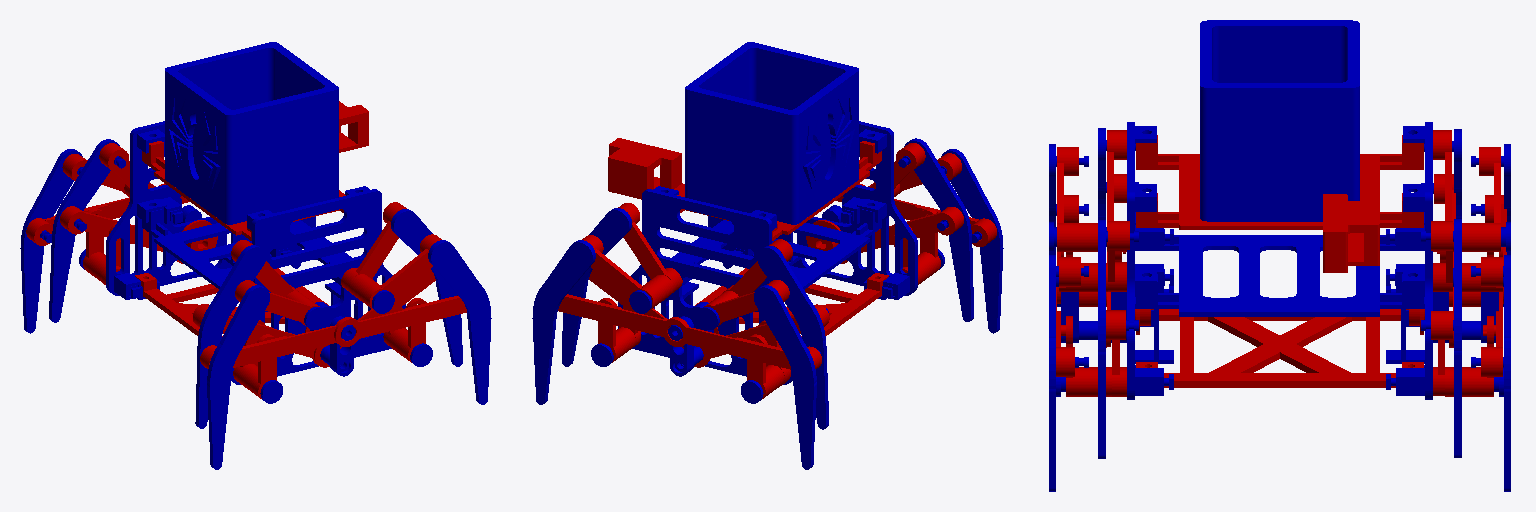
--- What the picture shows (computed from the rendered views, not written in the file) ---
The picture shows the robot from 3 angles, left to right: view 1: azimuth 30°, elevation 25°; view 2: azimuth 150°, elevation 25°; view 3: azimuth 270°, elevation 25°; orthographic projection.
Robot: unnamed — 52 links, 51 joints (34 continuous, 17 fixed); root link Base_link; default pose: all joints at 0.
Visible links, largest first — view 1: Caja_link, right_side_PCBWay_Community_link, left_side_PCBWay_Community_link, leg_PCBWay_Community.007_link, leg_PCBWay_Community.008_link, Medio_link, leg_PCBWay_Community.002_link, leg_PCBWay_Community.005_link, leg_PCBWay_Community.004_link, Arriba_link, inks_2_PCBWay_Community.010_link, leg_PCBWay_Community.006_link (+16 smaller); view 2: Caja_link, left_side_PCBWay_Community_link, right_side_PCBWay_Community_link, Arriba_link, leg_PCBWay_Community.005_link, leg_PCBWay_Community.003_link, Medio_link, leg_PCBWay_Community.004_link, leg_PCBWay_Community.002_link, leg_PCBWay_Community.007_link, inks_2_PCBWay_Community.007_link, leg_PCBWay_Community.001_link (+16 smaller); view 3: Caja_link, Medio_link, Arriba_link, Base_link, right_side_PCBWay_Community_link, left_side_PCBWay_Community_link, inks_2_PCBWay_Community.005_link, leg_PCBWay_Community.006_link, inks_2_PCBWay_Community.008_link, leg_PCBWay_Community.001_link, leg_PCBWay_Community.008_link, leg_PCBWay_Community.003_link (+24 smaller).
Boxes of the visible links, x1,y1,x2,y2 form: Caja_link: [165, 42, 338, 224]; right_side_PCBWay_Community_link: [231, 186, 405, 384]; left_side_PCBWay_Community_link: [106, 121, 290, 299]; leg_PCBWay_Community.007_link: [207, 285, 269, 469]; leg_PCBWay_Community.008_link: [428, 240, 491, 404]; Medio_link: [142, 209, 351, 311]; leg_PCBWay_Community.002_link: [49, 139, 125, 322]; leg_PCBWay_Community.005_link: [20, 149, 83, 333]; leg_PCBWay_Community.004_link: [195, 245, 265, 428]; Arriba_link: [142, 101, 368, 240]; inks_2_PCBWay_Community.010_link: [334, 295, 466, 346]; leg_PCBWay_Community.006_link: [391, 209, 462, 366]; Caja_link: [685, 42, 858, 224]; left_side_PCBWay_Community_link: [618, 186, 792, 384]; right_side_PCBWay_Community_link: [733, 121, 917, 299]; Arriba_link: [608, 138, 881, 240]; leg_PCBWay_Community.005_link: [754, 285, 820, 469]; leg_PCBWay_Community.003_link: [532, 240, 595, 404]; Medio_link: [672, 209, 881, 311]; leg_PCBWay_Community.004_link: [898, 138, 973, 321]; leg_PCBWay_Community.002_link: [757, 246, 828, 429]; leg_PCBWay_Community.007_link: [941, 149, 1003, 333]; inks_2_PCBWay_Community.007_link: [662, 318, 821, 369]; leg_PCBWay_Community.001_link: [562, 208, 631, 366]; Caja_link: [1200, 20, 1359, 221]; Medio_link: [1136, 235, 1423, 316]; Arriba_link: [1136, 135, 1423, 272]; Base_link: [1136, 309, 1423, 387]; right_side_PCBWay_Community_link: [1127, 122, 1173, 399]; left_side_PCBWay_Community_link: [1386, 122, 1432, 399]; inks_2_PCBWay_Community.005_link: [1057, 147, 1097, 251]; leg_PCBWay_Community.006_link: [1098, 220, 1138, 458]; inks_2_PCBWay_Community.008_link: [1453, 147, 1500, 251]; leg_PCBWay_Community.001_link: [1421, 219, 1461, 457]; leg_PCBWay_Community.008_link: [1049, 255, 1088, 491]; leg_PCBWay_Community.003_link: [1471, 255, 1510, 491].
Bounding box of the posed robot: 0.1617 × 0.1885 × 0.1595 m (x, y, z).
52 mesh visuals loaded from 52 distinct referenced files (52 Collada DAE).

URDF robot description (unnamed):
<robot name="unnamed" version="1.0">
  <joint name="Arriba_link_joint" type="fixed">
    <origin rpy="-3.14159 -0.00000 0.00000" xyz="0.00000 -0.00000 0.00100"/>
    <parent link="Caja_link"/>
    <child link="Arriba_link"/>
  </joint>
  <joint name="Caja_link_joint" type="fixed">
    <origin rpy="3.14159 -0.00000 0.00000" xyz="-0.00250 -0.00000 0.03850"/>
    <parent link="Medio_link"/>
    <child link="Caja_link"/>
  </joint>
  <joint name="Medio_link_joint" type="fixed">
    <origin rpy="0.00000 0.00000 0.00000" xyz="0.00000 0.00000 0.03350"/>
    <parent link="Base_link"/>
    <child link="Medio_link"/>
  </joint>
  <joint name="axe-drive_PCBWay Community.001_link_joint" type="fixed">
    <origin rpy="0.00000 -0.00000 1.57080" xyz="0.00000 0.00400 0.01140"/>
    <parent link="axe-mtr_left.001_link"/>
    <child link="axe-drive_PCBWay_Community.001_link"/>
  </joint>
  <joint name="axe-drive_PCBWay Community.002_link_joint" type="fixed">
    <origin rpy="0.00000 -0.00000 -0.00000" xyz="-0.00390 0.00000 0.01740"/>
    <parent link="axe-drive_PCBWay_Community.001_link"/>
    <child link="axe-drive_PCBWay_Community.002_link"/>
  </joint>
  <joint name="axe-drive_PCBWay Community.004_link_joint" type="fixed">
    <origin rpy="-0.00000 0.00000 -0.00000" xyz="-0.00390 -0.00000 0.01740"/>
    <parent link="axe-drive_PCBWay_Community.003_link"/>
    <child link="axe-drive_PCBWay_Community.004_link"/>
  </joint>
  <joint name="axe-drive_PCBWay_Community.003_link_joint" type="fixed">
    <origin rpy="3.14159 -0.00000 1.57080" xyz="-0.00000 0.00400 -0.01140"/>
    <parent link="axe-mtr_left_link"/>
    <child link="axe-drive_PCBWay_Community.003_link"/>
  </joint>
  <joint name="axe-main_PCBWay Community.001_link_joint" type="fixed">
    <origin rpy="-0.00000 0.00000 0.00000" xyz="-0.04399 -0.01757 -0.01136"/>
    <parent link="left_side_PCBWay_Community_link"/>
    <child link="axe-main_PCBWay_Community.001_link"/>
  </joint>
  <joint name="axe-main_PCBWay Community.003_link_joint" type="fixed">
    <origin rpy="0.00000 0.00000 0.00000" xyz="0.04201 -0.01757 -0.01136"/>
    <parent link="left_side_PCBWay_Community_link"/>
    <child link="axe-main_PCBWay_Community.003_link"/>
  </joint>
  <joint name="axe-main_PCBWay Community.004_link_joint" type="fixed">
    <origin rpy="-0.00000 0.00000 0.00000" xyz="0.01841 0.01833 -0.01246"/>
    <parent link="left_side_PCBWay_Community_link"/>
    <child link="axe-main_PCBWay_Community.004_link"/>
  </joint>
  <joint name="axe-main_PCBWay Community.005_link_joint" type="fixed">
    <origin rpy="-0.00000 -0.00000 -3.14159" xyz="-0.02072 -0.01850 -0.01237"/>
    <parent link="right_side_PCBWay_Community_link"/>
    <child link="axe-main_PCBWay_Community.005_link"/>
  </joint>
  <joint name="axe-main_PCBWay Community.006_link_joint" type="fixed">
    <origin rpy="-0.00000 -0.00000 -3.14159" xyz="0.01808 -0.01850 -0.01237"/>
    <parent link="right_side_PCBWay_Community_link"/>
    <child link="axe-main_PCBWay_Community.006_link"/>
  </joint>
  <joint name="axe-main_PCBWay Community.007_link_joint" type="fixed">
    <origin rpy="-0.00000 -0.00000 -3.14159" xyz="0.04168 0.01740 -0.01127"/>
    <parent link="right_side_PCBWay_Community_link"/>
    <child link="axe-main_PCBWay_Community.007_link"/>
  </joint>
  <joint name="axe-main_PCBWay Community_link_joint" type="fixed">
    <origin rpy="-0.00000 0.00000 0.00000" xyz="-0.02039 0.01833 -0.01246"/>
    <parent link="left_side_PCBWay_Community_link"/>
    <child link="axe-main_PCBWay_Community_link"/>
  </joint>
  <joint name="axe-main_PCBWay_Community.002_link_joint" type="fixed">
    <origin rpy="-0.00000 -0.00000 -3.14159" xyz="-0.04432 0.01740 -0.01127"/>
    <parent link="right_side_PCBWay_Community_link"/>
    <child link="axe-main_PCBWay_Community.002_link"/>
  </joint>
  <joint name="axe-mtr_left.001_link_joint" type="continuous">
    <limit lower="0" upper="0" effort="0.00000" velocity="0.00000"/>
    <origin rpy="3.14159 0.00000 3.14159" xyz="-0.00132 0.00440 0.00053"/>
    <parent link="right_side_PCBWay_Community_link"/>
    <child link="axe-mtr_left.001_link"/>
    <axis xyz="0.00000 0.00000 1.00000"/>
  </joint>
  <joint name="axe-mtr_left_link_joint" type="continuous">
    <limit lower="0" upper="0" effort="0.00000" velocity="1000.00000"/>
    <origin rpy="0.00000 -0.00000 3.14159" xyz="-0.00099 -0.00457 0.00044"/>
    <parent link="left_side_PCBWay_Community_link"/>
    <child link="axe-mtr_left_link"/>
    <axis xyz="0.00000 0.00000 1.00000"/>
  </joint>
  <joint name="inks_1_PCBWay Community.001_link_joint" type="continuous">
    <limit lower="0" upper="0" effort="0.00000" velocity="0.00000"/>
    <origin rpy="-0.00000 0.00000 -0.68167" xyz="-0.00003 0.00019 0.00561"/>
    <parent link="axe-main_PCBWay_Community.005_link"/>
    <child link="inks_1_PCBWay_Community.001_link"/>
    <axis xyz="0.00000 0.00000 1.00000"/>
  </joint>
  <joint name="inks_1_PCBWay Community.003_link_joint" type="continuous">
    <limit lower="0" upper="0" effort="0.00000" velocity="1000.00000"/>
    <origin rpy="3.14159 -0.00000 -2.45992" xyz="-0.00003 0.00019 0.00561"/>
    <parent link="axe-main_PCBWay_Community.004_link"/>
    <child link="inks_1_PCBWay_Community.003_link"/>
    <axis xyz="0.00000 0.00000 1.00000"/>
  </joint>
  <joint name="inks_1_PCBWay Community.004_link_joint" type="continuous">
    <limit lower="0" upper="0" effort="0.00000" velocity="0.00000"/>
    <origin rpy="0.00000 0.00000 0.68168" xyz="0.00003 0.00019 0.00561"/>
    <parent link="axe-main_PCBWay_Community_link"/>
    <child link="inks_1_PCBWay_Community.004_link"/>
    <axis xyz="0.00000 0.00000 1.00000"/>
  </joint>
  <joint name="inks_1_PCBWay Community.005_link_joint" type="continuous">
    <limit lower="0" upper="0" effort="0.00000" velocity="0.00000"/>
    <origin rpy="-0.00000 -0.00000 -2.95933" xyz="0.00021 -0.00008 0.00567"/>
    <parent link="axe-main_PCBWay_Community.003_link"/>
    <child link="inks_1_PCBWay_Community.005_link"/>
    <axis xyz="0.00000 0.00000 1.00000"/>
  </joint>
  <joint name="inks_1_PCBWay Community.006_link_joint" type="continuous">
    <limit lower="0" upper="0" effort="0.00000" velocity="0.00000"/>
    <origin rpy="3.14159 0.00000 2.95933" xyz="-0.00019 0.00009 0.01292"/>
    <parent link="inks_2_PCBWay_Community.006_link"/>
    <child link="inks_1_PCBWay_Community.006_link"/>
    <axis xyz="0.00000 0.00000 1.00000"/>
  </joint>
  <joint name="inks_1_PCBWay Community.008_link_joint" type="continuous">
    <limit lower="0" upper="0" effort="0.00000" velocity="0.00000"/>
    <origin rpy="-0.00000 -0.00000 2.95933" xyz="-0.00021 -0.00000 0.00467"/>
    <parent link="axe-main_PCBWay_Community.001_link"/>
    <child link="inks_1_PCBWay_Community.008_link"/>
    <axis xyz="0.00000 0.00000 1.00000"/>
  </joint>
  <joint name="inks_1_PCBWay Community.009_link_joint" type="continuous">
    <limit lower="0" upper="0" effort="0.00000" velocity="0.00000"/>
    <origin rpy="-0.00000 -0.00000 2.95933" xyz="-0.00021 -0.00000 0.00467"/>
    <parent link="axe-main_PCBWay_Community.007_link"/>
    <child link="inks_1_PCBWay_Community.009_link"/>
    <axis xyz="0.00000 0.00000 1.00000"/>
  </joint>
  <joint name="inks_1_PCBWay Community.010_link_joint" type="continuous">
    <limit lower="0" upper="0" effort="0.00000" velocity="0.00000"/>
    <origin rpy="0.00000 -0.00000 2.22205" xyz="-0.00000 0.00000 0.00000"/>
    <parent link="inks_1_PCBWay_Community.002_link"/>
    <child link="inks_1_PCBWay_Community.010_link"/>
    <axis xyz="0.00000 0.00000 1.00000"/>
  </joint>
  <joint name="inks_1_PCBWay Community.011_link_joint" type="continuous">
    <limit lower="0" upper="0" effort="0.00000" velocity="0.00000"/>
    <origin rpy="0.00000 0.00000 2.68182" xyz="0.00549 -0.00000 0.00140"/>
    <parent link="axe-drive_PCBWay_Community.001_link"/>
    <child link="inks_1_PCBWay_Community.011_link"/>
    <axis xyz="0.00000 0.00000 1.00000"/>
  </joint>
  <joint name="inks_1_PCBWay Community.012_link_joint" type="continuous">
    <limit lower="0" upper="0" effort="0.00000" velocity="0.00000"/>
    <origin rpy="-3.14159 -0.00000 -0.45977" xyz="0.00549 -0.00000 0.00140"/>
    <parent link="axe-drive_PCBWay_Community.001_link"/>
    <child link="inks_1_PCBWay_Community.012_link"/>
    <axis xyz="0.00000 0.00000 1.00000"/>
  </joint>
  <joint name="inks_1_PCBWay_Community.002_link_joint" type="continuous">
    <limit lower="0" upper="0" effort="0.00000" velocity="1000.00000"/>
    <origin rpy="-3.14159 -0.00000 -0.45977" xyz="0.00549 -0.00000 0.00140"/>
    <parent link="axe-drive_PCBWay_Community.003_link"/>
    <child link="inks_1_PCBWay_Community.002_link"/>
    <axis xyz="0.00000 0.00000 1.00000"/>
  </joint>
  <joint name="inks_1_PCBWay_Community.007_link_joint" type="continuous">
    <limit lower="0" upper="0" effort="0.00000" velocity="0.00000"/>
    <origin rpy="0.00000 0.00000 0.68167" xyz="0.00003 0.00019 0.00561"/>
    <parent link="axe-main_PCBWay_Community.006_link"/>
    <child link="inks_1_PCBWay_Community.007_link"/>
    <axis xyz="0.00000 0.00000 1.00000"/>
  </joint>
  <joint name="inks_2_PCBWay Community.002_link_joint" type="continuous">
    <limit lower="0" upper="0" effort="0.00000" velocity="0.00000"/>
    <origin rpy="0.00000 -0.00000 -1.07338" xyz="-0.00003 -0.00011 -0.01965"/>
    <parent link="axe-main_PCBWay_Community.004_link"/>
    <child link="inks_2_PCBWay_Community.002_link"/>
    <axis xyz="0.00000 0.00000 1.00000"/>
  </joint>
  <joint name="inks_2_PCBWay Community.003_link_joint" type="continuous">
    <limit lower="0" upper="0" effort="0.00000" velocity="0.00000"/>
    <origin rpy="3.14159 0.00000 -0.00000" xyz="-0.01011 0.00000 0.00300"/>
    <parent link="axe-drive_PCBWay_Community.002_link"/>
    <child link="inks_2_PCBWay_Community.003_link"/>
    <axis xyz="0.00000 0.00000 1.00000"/>
  </joint>
  <joint name="inks_2_PCBWay Community.004_link_joint" type="continuous">
    <limit lower="0" upper="0" effort="0.00000" velocity="0.00000"/>
    <origin rpy="3.14159 -0.00000 0.00000" xyz="0.00002 0.00001 -0.00725"/>
    <parent link="axe-main_PCBWay_Community.003_link"/>
    <child link="inks_2_PCBWay_Community.004_link"/>
    <axis xyz="0.00000 0.00000 1.00000"/>
  </joint>
  <joint name="inks_2_PCBWay Community.005_link_joint" type="continuous">
    <limit lower="0" upper="0" effort="0.00000" velocity="0.00000"/>
    <origin rpy="-3.14159 -0.00000 -2.06821" xyz="-0.00003 -0.00011 -0.01965"/>
    <parent link="axe-main_PCBWay_Community.005_link"/>
    <child link="inks_2_PCBWay_Community.005_link"/>
    <axis xyz="0.00000 0.00000 1.00000"/>
  </joint>
  <joint name="inks_2_PCBWay Community.006_link_joint" type="continuous">
    <limit lower="0" upper="0" effort="0.00000" velocity="0.00000"/>
    <origin rpy="-0.00000 0.00000 3.14159" xyz="0.00002 0.00001 -0.00725"/>
    <parent link="axe-main_PCBWay_Community.002_link"/>
    <child link="inks_2_PCBWay_Community.006_link"/>
    <axis xyz="0.00000 0.00000 1.00000"/>
  </joint>
  <joint name="inks_2_PCBWay Community.007_link_joint" type="continuous">
    <limit lower="0" upper="0" effort="0.00000" velocity="0.00000"/>
    <origin rpy="-0.00000 0.00000 -3.14159" xyz="-0.01011 0.00000 0.00455"/>
    <parent link="axe-drive_PCBWay_Community.004_link"/>
    <child link="inks_2_PCBWay_Community.007_link"/>
    <axis xyz="0.00000 0.00000 1.00000"/>
  </joint>
  <joint name="inks_2_PCBWay Community.008_link_joint" type="continuous">
    <limit lower="0" upper="0" effort="0.00000" velocity="0.00000"/>
    <origin rpy="-3.14159 0.00000 2.06821" xyz="0.00003 -0.00011 -0.01890"/>
    <parent link="axe-main_PCBWay_Community_link"/>
    <child link="inks_2_PCBWay_Community.008_link"/>
    <axis xyz="0.00000 0.00000 1.00000"/>
  </joint>
  <joint name="inks_2_PCBWay Community.009_link_joint" type="continuous">
    <limit lower="0" upper="0" effort="0.00000" velocity="0.00000"/>
    <origin rpy="3.14159 -0.00000 0.00000" xyz="-0.00002 0.00001 -0.00725"/>
    <parent link="axe-main_PCBWay_Community.001_link"/>
    <child link="inks_2_PCBWay_Community.009_link"/>
    <axis xyz="0.00000 0.00000 1.00000"/>
  </joint>
  <joint name="inks_2_PCBWay Community.010_link_joint" type="continuous">
    <limit lower="0" upper="0" effort="0.00000" velocity="0.00000"/>
    <origin rpy="0.00000 0.00000 3.14159" xyz="-0.01011 0.00000 0.00455"/>
    <parent link="axe-drive_PCBWay_Community.002_link"/>
    <child link="inks_2_PCBWay_Community.010_link"/>
    <axis xyz="0.00000 0.00000 1.00000"/>
  </joint>
  <joint name="inks_2_PCBWay Community.012_link_joint" type="continuous">
    <limit lower="0" upper="0" effort="0.00000" velocity="0.00000"/>
    <origin rpy="-0.00000 0.00000 3.14159" xyz="-0.00002 0.00001 -0.00725"/>
    <parent link="axe-main_PCBWay_Community.007_link"/>
    <child link="inks_2_PCBWay_Community.012_link"/>
    <axis xyz="0.00000 0.00000 1.00000"/>
  </joint>
  <joint name="inks_2_PCBWay_Community.001_link_joint" type="continuous">
    <limit lower="0" upper="0" effort="0.00000" velocity="0.00000"/>
    <origin rpy="-3.14159 0.00000 -0.00000" xyz="-0.01011 0.00000 0.00300"/>
    <parent link="axe-drive_PCBWay_Community.004_link"/>
    <child link="inks_2_PCBWay_Community.001_link"/>
    <axis xyz="0.00000 0.00000 1.00000"/>
  </joint>
  <joint name="inks_2_PCBWay_Community.011_link_joint" type="continuous">
    <limit lower="0" upper="0" effort="0.00000" velocity="0.00000"/>
    <origin rpy="-3.14159 -0.00000 2.06821" xyz="0.00003 -0.00011 -0.01890"/>
    <parent link="axe-main_PCBWay_Community.006_link"/>
    <child link="inks_2_PCBWay_Community.011_link"/>
    <axis xyz="0.00000 0.00000 1.00000"/>
  </joint>
  <joint name="left_side_PCBWay_Community_link_joint" type="fixed">
    <origin rpy="1.57080 0.00000 0.00000" xyz="0.00099 0.05864 0.02357"/>
    <parent link="Base_link"/>
    <child link="left_side_PCBWay_Community_link"/>
  </joint>
  <joint name="leg_PCBWay Community.001_link_joint" type="continuous">
    <limit lower="0" upper="0" effort="0.00000" velocity="1000.00000"/>
    <origin rpy="-0.00000 0.00000 1.51844" xyz="0.00021 0.07365 0.01349"/>
    <parent link="inks_1_PCBWay_Community.002_link"/>
    <child link="leg_PCBWay_Community.001_link"/>
    <axis xyz="0.00000 0.00000 1.00000"/>
  </joint>
  <joint name="leg_PCBWay Community.002_link_joint" type="continuous">
    <limit lower="0" upper="0" effort="0.00000" velocity="0.00000"/>
    <origin rpy="-0.00000 -0.00000 -1.52909" xyz="-0.00021 0.07365 0.01349"/>
    <parent link="inks_1_PCBWay_Community.010_link"/>
    <child link="leg_PCBWay_Community.002_link"/>
    <axis xyz="0.00000 0.00000 1.00000"/>
  </joint>
  <joint name="leg_PCBWay Community.004_link_joint" type="continuous">
    <limit lower="0" upper="0" effort="0.00000" velocity="0.00000"/>
    <origin rpy="-0.00000 0.00000 1.51844" xyz="0.00021 0.07365 0.01349"/>
    <parent link="inks_1_PCBWay_Community.012_link"/>
    <child link="leg_PCBWay_Community.004_link"/>
    <axis xyz="0.00000 0.00000 1.00000"/>
  </joint>
  <joint name="leg_PCBWay Community.005_link_joint" type="continuous">
    <limit lower="0" upper="0" effort="0.00000" velocity="0.00000"/>
    <origin rpy="-3.14159 0.00000 1.23744" xyz="-0.00000 -0.07325 -0.01380"/>
    <parent link="inks_2_PCBWay_Community.007_link"/>
    <child link="leg_PCBWay_Community.005_link"/>
    <axis xyz="0.00000 0.00000 1.00000"/>
  </joint>
  <joint name="leg_PCBWay Community.006_link_joint" type="continuous">
    <limit lower="0" upper="0" effort="0.00000" velocity="0.00000"/>
    <origin rpy="-3.14159 0.00000 2.44863" xyz="0.05845 -0.04482 -0.01349"/>
    <parent link="inks_1_PCBWay_Community.011_link"/>
    <child link="leg_PCBWay_Community.006_link"/>
    <axis xyz="0.00000 0.00000 1.00000"/>
  </joint>
  <joint name="leg_PCBWay Community.007_link_joint" type="continuous">
    <limit lower="0" upper="0" effort="0.00000" velocity="0.00000"/>
    <origin rpy="0.00000 0.00000 1.90415" xyz="0.00000 0.07325 0.01225"/>
    <parent link="inks_2_PCBWay_Community.003_link"/>
    <child link="leg_PCBWay_Community.007_link"/>
    <axis xyz="0.00000 0.00000 1.00000"/>
  </joint>
  <joint name="leg_PCBWay Community.008_link_joint" type="continuous">
    <limit lower="0" upper="0" effort="0.00000" velocity="0.00000"/>
    <origin rpy="-3.14159 -0.00000 1.23744" xyz="-0.00000 -0.07325 -0.01380"/>
    <parent link="inks_2_PCBWay_Community.010_link"/>
    <child link="leg_PCBWay_Community.008_link"/>
    <axis xyz="0.00000 0.00000 1.00000"/>
  </joint>
  <joint name="leg_PCBWay_Community.003_link_joint" type="continuous">
    <limit lower="0" upper="0" effort="0.00000" velocity="0.00000"/>
    <origin rpy="0.00000 0.00000 1.90415" xyz="0.00000 0.07325 0.01225"/>
    <parent link="inks_2_PCBWay_Community.001_link"/>
    <child link="leg_PCBWay_Community.003_link"/>
    <axis xyz="0.00000 0.00000 1.00000"/>
  </joint>
  <joint name="right_side_PCBWay Community_link_joint" type="fixed">
    <origin rpy="-1.57080 0.00000 0.00000" xyz="0.00132 -0.05873 0.02340"/>
    <parent link="Base_link"/>
    <child link="right_side_PCBWay_Community_link"/>
  </joint>
  <link name="Arriba_link">
    <visual name="Arriba">
      <origin rpy="-0.00000 0.00000 0.00000" xyz="0.00000 0.00000 0.00000"/>
      <material name="Material.002"/>
      <geometry>
        <mesh filename="../meshes/dae/Arriba.dae" scale="1.00000 1.00000 1.00000"/>
      </geometry>
    </visual>
  </link>
  <link name="Base_link">
    <collision name="Base_collision">
      <origin rpy="0.00000 0.00000 0.00000" xyz="0.00000 0.00000 0.00000"/>
      <geometry>
        <mesh filename="../meshes/dae/Base.dae" scale="1.00000 1.00000 1.00000"/>
      </geometry>
    </collision>
    <inertial>
      <inertia ixx="0.00011" ixy="-0.00000" ixz="0.00000" iyy="0.00005" iyz="0.00000" izz="0.00016"/>
      <origin rpy="0.00000 0.00000 0.00000" xyz="0.00001 -0.00000 0.00189"/>
      <mass value="0.10000"/>
    </inertial>
    <visual name="Base">
      <origin rpy="0.00000 0.00000 0.00000" xyz="0.00000 0.00000 0.00000"/>
      <material name="Material.002"/>
      <geometry>
        <mesh filename="../meshes/dae/Base.dae" scale="1.00000 1.00000 1.00000"/>
      </geometry>
    </visual>
  </link>
  <link name="Caja_link">
    <visual name="Caja">
      <origin rpy="0.00000 -0.00000 0.00000" xyz="-0.00000 -0.00000 0.00000"/>
      <material name="Material.004"/>
      <geometry>
        <mesh filename="../meshes/dae/Caja.dae" scale="1.00000 1.00000 1.00000"/>
      </geometry>
    </visual>
  </link>
  <link name="Medio_link">
    <collision name="Medio_collision">
      <origin rpy="0.00000 0.00000 0.00000" xyz="0.00000 0.00000 0.00000"/>
      <geometry>
        <mesh filename="../meshes/dae/Medio.dae" scale="1.00000 1.00000 1.00000"/>
      </geometry>
    </collision>
    <inertial>
      <inertia ixx="0.02700" ixy="-0.00007" ixz="-0.00000" iyy="0.00935" iyz="-0.00023" izz="0.03584"/>
      <origin rpy="0.00000 0.00000 0.00000" xyz="0.00213 -0.00002 0.00231"/>
      <mass value="20.00000"/>
    </inertial>
    <visual name="Medio">
      <origin rpy="0.00000 0.00000 0.00000" xyz="0.00000 0.00000 0.00000"/>
      <material name="Material.004"/>
      <geometry>
        <mesh filename="../meshes/dae/Medio.dae" scale="1.00000 1.00000 1.00000"/>
      </geometry>
    </visual>
  </link>
  <link name="axe-drive_PCBWay_Community.001_link">
    <collision name="axe-drive_PCBWay Community.001_collision">
      <origin rpy="0.00000 -0.00000 -0.00000" xyz="0.00000 -0.00000 -0.00000"/>
      <geometry>
        <mesh filename="../meshes/dae/axe-drive_PCBWay Community.001.dae" scale="1.00000 1.00000 1.00000"/>
      </geometry>
    </collision>
    <inertial>
      <inertia ixx="0.00001" ixy="0.00000" ixz="0.00000" iyy="0.00001" iyz="-0.00000" izz="0.00000"/>
      <origin rpy="0.00000 0.00000 0.00000" xyz="-0.00170 0.00000 -0.00150"/>
      <mass value="0.10000"/>
    </inertial>
    <visual name="axe-drive_PCBWay Community.001">
      <origin rpy="0.00000 0.00000 0.00000" xyz="0.00000 -0.00000 -0.00000"/>
      <material name="Material.004"/>
      <geometry>
        <mesh filename="../meshes/dae/axe-drive_PCBWay Community.001.dae" scale="1.00000 1.00000 1.00000"/>
      </geometry>
    </visual>
  </link>
  <link name="axe-drive_PCBWay_Community.002_link">
    <collision name="axe-drive_PCBWay Community.002_collision">
      <origin rpy="-0.00000 -0.00000 -0.00000" xyz="0.00000 -0.00000 -0.00000"/>
      <geometry>
        <mesh filename="../meshes/dae/axe-drive_PCBWay Community.002.dae" scale="1.00000 1.00000 1.00000"/>
      </geometry>
    </collision>
    <inertial>
      <inertia ixx="0.00001" ixy="-0.00000" ixz="0.00000" iyy="0.00001" iyz="0.00000" izz="0.00000"/>
      <origin rpy="0.00000 0.00000 0.00000" xyz="-0.00169 0.00000 -0.00105"/>
      <mass value="0.10000"/>
    </inertial>
    <visual name="axe-drive_PCBWay Community.002">
      <origin rpy="0.00000 0.00000 0.00000" xyz="0.00000 -0.00000 -0.00000"/>
      <material name="Material.004"/>
      <geometry>
        <mesh filename="../meshes/dae/axe-drive_PCBWay Community.002.dae" scale="1.00000 1.00000 1.00000"/>
      </geometry>
    </visual>
  </link>
  <link name="axe-drive_PCBWay_Community.003_link">
    <collision name="axe-drive_PCBWay Community.003_collision.000">
      <origin rpy="0.00000 -0.00000 0.00000" xyz="0.00000 -0.00000 0.00000"/>
      <geometry>
        <mesh filename="../meshes/dae/axe-drive_PCBWay Community.003.dae" scale="1.00000 1.00000 1.00000"/>
      </geometry>
    </collision>
    <inertial>
      <inertia ixx="0.00001" ixy="-0.00000" ixz="0.00000" iyy="0.00001" iyz="0.00000" izz="0.00000"/>
      <origin rpy="0.00000 0.00000 0.00000" xyz="-0.00170 0.00000 -0.00150"/>
      <mass value="0.10000"/>
    </inertial>
    <visual name="axe-drive_PCBWay Community.003">
      <origin rpy="-0.00000 0.00000 -0.00000" xyz="0.00000 0.00000 -0.00000"/>
      <material name="Material.004"/>
      <geometry>
        <mesh filename="../meshes/dae/axe-drive_PCBWay Community.003.dae" scale="1.00000 1.00000 1.00000"/>
      </geometry>
    </visual>
  </link>
  <link name="axe-drive_PCBWay_Community.004_link">
    <collision name="axe-drive_PCBWay Community.004_collision">
      <origin rpy="0.00000 -0.00000 0.00000" xyz="0.00000 -0.00000 -0.00000"/>
      <geometry>
        <mesh filename="../meshes/dae/axe-drive_PCBWay Community.004.dae" scale="1.00000 1.00000 1.00000"/>
      </geometry>
    </collision>
    <inertial>
      <inertia ixx="0.00001" ixy="0.00000" ixz="0.00000" iyy="0.00001" iyz="-0.00000" izz="0.00000"/>
      <origin rpy="0.00000 0.00000 0.00000" xyz="-0.00169 0.00000 -0.00105"/>
      <mass value="0.10000"/>
    </inertial>
    <visual name="axe-drive_PCBWay Community.004">
      <origin rpy="-0.00000 -0.00000 0.00000" xyz="-0.00000 0.00000 -0.00000"/>
      <material name="Material.004"/>
      <geometry>
        <mesh filename="../meshes/dae/axe-drive_PCBWay Community.004.dae" scale="1.00000 1.00000 1.00000"/>
      </geometry>
    </visual>
  </link>
  <link name="axe-main_PCBWay_Community.001_link">
    <collision name="axe-main_PCBWay Community.001_collision">
      <origin rpy="-0.00000 0.00000 0.00000" xyz="0.00000 -0.00000 0.00000"/>
      <geometry>
        <mesh filename="../meshes/dae/axe-main_PCBWay Community.001.dae" scale="1.00000 1.00000 1.00000"/>
      </geometry>
    </collision>
    <inertial>
      <inertia ixx="0.00002" ixy="-0.00000" ixz="-0.00000" iyy="0.00000" iyz="-0.00000" izz="0.00002"/>
      <origin rpy="0.00000 0.00000 0.00000" xyz="0.00000 -0.00000 -0.00262"/>
      <mass value="0.10000"/>
    </inertial>
    <visual name="axe-main_PCBWay Community.001">
      <origin rpy="-0.00000 0.00000 0.00000" xyz="-0.00000 0.00000 0.00000"/>
      <material name="Material.004"/>
      <geometry>
        <mesh filename="../meshes/dae/axe-main_PCBWay Community.001.dae" scale="1.00000 1.00000 1.00000"/>
      </geometry>
    </visual>
  </link>
  <link name="axe-main_PCBWay_Community.002_link">
    <collision name="axe-main_PCBWay Community.002_collision">
      <origin rpy="-0.00000 0.00000 -0.00000" xyz="0.00000 0.00000 -0.00000"/>
      <geometry>
        <mesh filename="../meshes/dae/axe-main_PCBWay Community.002.dae" scale="0.00100 0.00100 0.00100"/>
      </geometry>
    </collision>
    <inertial>
      <inertia ixx="0.00002" ixy="-0.00000" ixz="-0.00000" iyy="0.00000" iyz="0.00000" izz="0.00002"/>
      <origin rpy="0.00000 0.00000 0.00000" xyz="-0.00000 0.00000 -0.00262"/>
      <mass value="0.10000"/>
    </inertial>
    <visual name="axe-main_PCBWay Community.002">
      <origin rpy="0.00000 -0.00000 -0.00000" xyz="-0.00000 -0.00000 0.00000"/>
      <material name="Material.004"/>
      <geometry>
        <mesh filename="../meshes/dae/axe-main_PCBWay Community.002.dae" scale="0.00100 0.00100 0.00100"/>
      </geometry>
    </visual>
  </link>
  <link name="axe-main_PCBWay_Community.003_link">
    <collision name="axe-main_PCBWay Community.003_collision">
      <origin rpy="-0.00000 0.00000 0.00000" xyz="0.00000 -0.00000 0.00000"/>
      <geometry>
        <mesh filename="../meshes/dae/axe-main_PCBWay Community.003.dae" scale="0.00100 0.00100 0.00100"/>
      </geometry>
    </collision>
    <inertial>
      <inertia ixx="0.00002" ixy="-0.00000" ixz="-0.00000" iyy="0.00000" iyz="-0.00000" izz="0.00002"/>
      <origin rpy="0.00000 0.00000 0.00000" xyz="0.00000 0.00000 -0.00262"/>
      <mass value="0.10000"/>
    </inertial>
    <visual name="axe-main_PCBWay Community.003">
      <origin rpy="-0.00000 0.00000 0.00000" xyz="0.00000 0.00000 -0.00000"/>
      <material name="Material.004"/>
      <geometry>
        <mesh filename="../meshes/dae/axe-main_PCBWay Community.003.dae" scale="0.00100 0.00100 0.00100"/>
      </geometry>
    </visual>
  </link>
  <link name="axe-main_PCBWay_Community.004_link">
    <collision name="axe-main_PCBWay Community.004_collision">
      <origin rpy="-0.00000 0.00000 0.00000" xyz="0.00000 0.00000 -0.00000"/>
      <geometry>
        <mesh filename="../meshes/dae/axe-main_PCBWay Community.004.dae" scale="0.00100 0.00100 0.00100"/>
      </geometry>
    </collision>
    <inertial>
      <inertia ixx="0.00002" ixy="0.00000" ixz="0.00000" iyy="0.00000" iyz="-0.00000" izz="0.00002"/>
      <origin rpy="0.00000 0.00000 0.00000" xyz="0.00000 0.00000 -0.00277"/>
      <mass value="0.10000"/>
    </inertial>
    <visual name="axe-main_PCBWay Community.004">
      <origin rpy="-0.00000 0.00000 0.00000" xyz="0.00000 0.00000 0.00000"/>
      <material name="Material.004"/>
      <geometry>
        <mesh filename="../meshes/dae/axe-main_PCBWay Community.004.dae" scale="0.00100 0.00100 0.00100"/>
      </geometry>
    </visual>
  </link>
  <link name="axe-main_PCBWay_Community.005_link">
    <collision name="axe-main_PCBWay Community.005_collision">
      <origin rpy="0.00000 0.00000 -0.00000" xyz="-0.00000 0.00000 0.00000"/>
      <geometry>
        <mesh filename="../meshes/dae/axe-main_PCBWay Community.005.dae" scale="0.00100 0.00100 0.00100"/>
      </geometry>
    </collision>
    <inertial>
      <inertia ixx="0.00002" ixy="-0.00000" ixz="0.00000" iyy="0.00000" iyz="0.00000" izz="0.00002"/>
      <origin rpy="0.00000 0.00000 0.00000" xyz="-0.00000 -0.00000 -0.00277"/>
      <mass value="0.10000"/>
    </inertial>
    <visual name="axe-main_PCBWay Community.005">
      <origin rpy="-0.00000 0.00000 0.00000" xyz="-0.00000 0.00000 0.00000"/>
      <material name="Material.004"/>
      <geometry>
        <mesh filename="../meshes/dae/axe-main_PCBWay Community.005.dae" scale="0.00100 0.00100 0.00100"/>
      </geometry>
    </visual>
  </link>
  <link name="axe-main_PCBWay_Community.006_link">
    <collision name="axe-main_PCBWay Community.006_collision">
      <origin rpy="-0.00000 0.00000 -0.00000" xyz="-0.00000 0.00000 0.00000"/>
      <geometry>
        <mesh filename="../meshes/dae/axe-main_PCBWay Community.006.dae" scale="1.00000 1.00000 1.00000"/>
      </geometry>
    </collision>
    <inertial>
      <inertia ixx="0.00002" ixy="-0.00000" ixz="0.00000" iyy="0.00000" iyz="0.00000" izz="0.00002"/>
      <origin rpy="0.00000 0.00000 0.00000" xyz="0.00000 0.00000 -0.00277"/>
      <mass value="0.10000"/>
    </inertial>
    <visual name="axe-main_PCBWay Community.006">
      <origin rpy="-0.00000 0.00000 0.00000" xyz="-0.00000 -0.00000 -0.00000"/>
      <material name="Material.004"/>
      <geometry>
        <mesh filename="../meshes/dae/axe-main_PCBWay Community.006.dae" scale="1.00000 1.00000 1.00000"/>
      </geometry>
    </visual>
  </link>
  <link name="axe-main_PCBWay_Community.007_link">
    <collision name="axe-main_PCBWay Community.007_collision">
      <origin rpy="-0.00000 0.00000 -0.00000" xyz="0.00000 0.00000 0.00000"/>
      <geometry>
        <mesh filename="../meshes/dae/axe-main_PCBWay Community.007.dae" scale="1.00000 1.00000 1.00000"/>
      </geometry>
    </collision>
    <inertial>
      <inertia ixx="0.00002" ixy="-0.00000" ixz="0.00000" iyy="0.00000" iyz="0.00000" izz="0.00002"/>
      <origin rpy="0.00000 0.00000 0.00000" xyz="0.00000 -0.00000 -0.00262"/>
      <mass value="0.10000"/>
    </inertial>
    <visual name="axe-main_PCBWay Community.007">
      <origin rpy="-0.00000 0.00000 -0.00000" xyz="0.00000 -0.00000 0.00000"/>
      <material name="Material.004"/>
      <geometry>
        <mesh filename="../meshes/dae/axe-main_PCBWay Community.007.dae" scale="1.00000 1.00000 1.00000"/>
      </geometry>
    </visual>
  </link>
  <link name="axe-main_PCBWay_Community_link">
    <collision name="axe-main_PCBWay Community_collision">
      <origin rpy="0.00000 0.00000 0.00000" xyz="0.00000 0.00000 0.00000"/>
      <geometry>
        <mesh filename="../meshes/dae/axe-main_PCBWay Community.dae" scale="1.00000 1.00000 1.00000"/>
      </geometry>
    </collision>
    <inertial>
      <inertia ixx="0.00002" ixy="0.00000" ixz="0.00000" iyy="0.00000" iyz="-0.00000" izz="0.00002"/>
      <origin rpy="0.00000 0.00000 0.00000" xyz="-0.00000 0.00000 -0.00277"/>
      <mass value="0.10000"/>
    </inertial>
    <visual name="axe-main_PCBWay Community">
      <origin rpy="0.00000 0.00000 0.00000" xyz="-0.00000 0.00000 0.00000"/>
      <material name="Material.004"/>
      <geometry>
        <mesh filename="../meshes/dae/axe-main_PCBWay Community.dae" scale="1.00000 1.00000 1.00000"/>
      </geometry>
    </visual>
  </link>
  <link name="axe-mtr_left.001_link">
    <collision name="axe-mtr_left.001_collision">
      <origin rpy="-0.00000 0.00000 0.00000" xyz="-0.00000 0.00000 -0.00000"/>
      <geometry>
        <mesh filename="../meshes/dae/axe-mtr_PCBWay Community.001.dae" scale="1.00000 1.00000 1.00000"/>
      </geometry>
    </collision>
    <inertial>
      <inertia ixx="0.00000" ixy="-0.00000" ixz="-0.00000" iyy="0.00000" iyz="0.00000" izz="0.00000"/>
      <origin rpy="0.00000 0.00000 0.00000" xyz="0.00000 0.00000 -0.00055"/>
      <mass value="0.10000"/>
    </inertial>
    <visual name="axe-mtr_left.001">
      <origin rpy="0.00000 0.00000 0.00000" xyz="-0.00000 0.00000 -0.00000"/>
      <material name="Material.002"/>
      <geometry>
        <mesh filename="../meshes/dae/axe-mtr_PCBWay Community.001.dae" scale="1.00000 1.00000 1.00000"/>
      </geometry>
    </visual>
  </link>
  <link name="axe-mtr_left_link">
    <collision name="axe-mtr_left_collision">
      <origin rpy="3.14159 -0.00000 -3.14159" xyz="0.00000 0.00000 0.00000"/>
      <geometry>
        <mesh filename="../meshes/dae/axe-mtr_PCBWay Community.002.dae" scale="1.00000 1.00000 1.00000"/>
      </geometry>
    </collision>
    <inertial>
      <inertia ixx="0.00000" ixy="0.00000" ixz="-0.00000" iyy="0.00000" iyz="-0.00000" izz="0.00000"/>
      <origin rpy="0.00000 0.00000 0.00000" xyz="0.00000 -0.00000 0.00055"/>
      <mass value="0.10000"/>
    </inertial>
    <visual name="axe-mtr_left">
      <origin rpy="3.14159 -0.00000 -3.14159" xyz="-0.00000 -0.00000 -0.00000"/>
      <material name="Material.002"/>
      <geometry>
        <mesh filename="../meshes/dae/axe-mtr_PCBWay Community.002.dae" scale="1.00000 1.00000 1.00000"/>
      </geometry>
    </visual>
  </link>
  <link name="inks_1_PCBWay_Community.001_link">
    <collision name="inks_1_PCBWay Community.001_collision.000.001">
      <origin rpy="0.00000 -0.00000 0.00000" xyz="-0.00000 0.00000 0.00000"/>
      <geometry>
        <mesh filename="../meshes/dae/inks_1_PCBWay Community.001.dae" scale="1.00000 1.00000 1.00000"/>
      </geometry>
    </collision>
    <inertial>
      <inertia ixx="0.00001" ixy="0.00000" ixz="0.00001" iyy="0.00002" iyz="-0.00000" izz="0.00001"/>
      <origin rpy="0.00000 0.00000 0.00000" xyz="0.00022 0.02217 -0.00160"/>
      <mass value="0.10000"/>
    </inertial>
    <visual name="inks_1_PCBWay Community.001">
      <origin rpy="0.00000 -0.00000 -0.00000" xyz="-0.00000 0.00000 0.00000"/>
      <material name="Material.002"/>
      <geometry>
        <mesh filename="../meshes/dae/inks_1_PCBWay Community.001.dae" scale="1.00000 1.00000 1.00000"/>
      </geometry>
    </visual>
  </link>
  <link name="inks_1_PCBWay_Community.002_link">
    <collision name="inks_1_PCBWay Community.002_collision">
      <origin rpy="-0.00000 -0.00000 0.00000" xyz="-0.00000 0.00000 0.00000"/>
      <geometry>
        <mesh filename="../meshes/dae/inks_1_PCBWay Community.002.dae" scale="1.00000 1.00000 1.00000"/>
      </geometry>
    </collision>
    <inertial>
      <inertia ixx="0.00001" ixy="0.00000" ixz="-0.00003" iyy="0.00007" iyz="0.00000" izz="0.00005"/>
      <origin rpy="0.00000 0.00000 0.00000" xyz="0.00015 0.05009 0.00301"/>
      <mass value="0.10000"/>
    </inertial>
    <visual name="inks_1_PCBWay Community.002">
      <origin rpy="-0.00000 0.00000 -0.00000" xyz="0.00000 -0.00000 0.00000"/>
      <material name="Material.002"/>
      <geometry>
        <mesh filename="../meshes/dae/inks_1_PCBWay Community.002.dae" scale="1.00000 1.00000 1.00000"/>
      </geometry>
    </visual>
  </link>
  <link name="inks_1_PCBWay_Community.003_link">
    <collision name="inks_1_PCBWay Community.003_collision">
      <origin rpy="3.14159 -0.00000 -1.77824" xyz="0.00000 -0.00000 -0.00000"/>
      <geometry>
        <mesh filename="../meshes/dae/inks_1_PCBWay Community.003.dae" scale="1.00000 1.00000 1.00000"/>
      </geometry>
    </collision>
    <inertial>
      <inertia ixx="0.00001" ixy="0.00000" ixz="-0.00001" iyy="0.00002" iyz="0.00000" izz="0.00001"/>
      <origin rpy="0.00000 0.00000 0.00000" xyz="-0.02174 0.00435 0.00160"/>
      <mass value="0.10000"/>
    </inertial>
    <visual name="inks_1_PCBWay Community.003">
      <origin rpy="3.14159 -0.00000 -1.77824" xyz="0.00000 -0.00000 -0.00000"/>
      <material name="Material.002"/>
      <geometry>
        <mesh filename="../meshes/dae/inks_1_PCBWay Community.003.dae" scale="1.00000 1.00000 1.00000"/>
      </geometry>
    </visual>
  </link>
  <link name="inks_1_PCBWay_Community.004_link">
    <collision name="inks_1_PCBWay Community.004_collision">
      <origin rpy="-0.00000 -0.00000 -0.00000" xyz="0.00000 0.00000 0.00000"/>
      <geometry>
        <mesh filename="../meshes/dae/inks_1_PCBWay Community.004.dae" scale="1.00000 1.00000 1.00000"/>
      </geometry>
    </collision>
    <inertial>
      <inertia ixx="0.00001" ixy="-0.00000" ixz="0.00001" iyy="0.00002" iyz="0.00000" izz="0.00001"/>
      <origin rpy="0.00000 0.00000 0.00000" xyz="-0.00000 0.02212 -0.00107"/>
      <mass value="0.10000"/>
    </inertial>
    <visual name="inks_1_PCBWay Community.004">
      <origin rpy="-0.00000 -0.00000 0.00000" xyz="0.00000 0.00000 0.00000"/>
      <material name="Material.002"/>
      <geometry>
        <mesh filename="../meshes/dae/inks_1_PCBWay Community.004.dae" scale="1.00000 1.00000 1.00000"/>
      </geometry>
    </visual>
  </link>
  <link name="inks_1_PCBWay_Community.005_link">
    <collision name="inks_1_PCBWay Community.005_collision">
      <origin rpy="0.00000 -0.00000 0.00000" xyz="0.00000 -0.00000 0.00000"/>
      <geometry>
        <mesh filename="../meshes/dae/inks_1_PCBWay Community.005.dae" scale="1.00000 1.00000 1.00000"/>
      </geometry>
    </collision>
    <inertial>
      <inertia ixx="0.00001" ixy="0.00000" ixz="0.00000" iyy="0.00001" iyz="-0.00000" izz="0.00000"/>
      <origin rpy="0.00000 0.00000 0.00000" xyz="0.00019 -0.01066 -0.00087"/>
      <mass value="0.10000"/>
    </inertial>
    <visual name="inks_1_PCBWay Community.005">
      <origin rpy="-0.00000 -0.00000 0.00000" xyz="-0.00000 0.00000 0.00000"/>
      <material name="Material.002"/>
      <geometry>
        <mesh filename="../meshes/dae/inks_1_PCBWay Community.005.dae" scale="1.00000 1.00000 1.00000"/>
      </geometry>
    </visual>
  </link>
  <link name="inks_1_PCBWay_Community.006_link">
    <collision name="inks_1_PCBWay Community.006_collision">
      <origin rpy="3.14159 -0.00000 2.77707" xyz="-0.00000 0.00000 0.00000"/>
      <geometry>
        <mesh filename="../meshes/dae/inks_1_PCBWay Community.006.dae" scale="1.00000 1.00000 1.00000"/>
      </geometry>
    </collision>
    <inertial>
      <inertia ixx="0.00001" ixy="0.00000" ixz="-0.00000" iyy="0.00001" iyz="0.00000" izz="0.00000"/>
      <origin rpy="0.00000 0.00000 0.00000" xyz="-0.00398 -0.00989 0.00087"/>
      <mass value="0.10000"/>
    </inertial>
    <visual name="inks_1_PCBWay Community.006">
      <origin rpy="3.14159 -0.00000 2.77707" xyz="0.00000 -0.00000 -0.00000"/>
      <material name="Material.002"/>
      <geometry>
        <mesh filename="../meshes/dae/inks_1_PCBWay Community.006.dae" scale="1.00000 1.00000 1.00000"/>
      </geometry>
    </visual>
  </link>
  <link name="inks_1_PCBWay_Community.007_link">
    <inertial>
      <inertia ixx="0.00001" ixy="-0.00000" ixz="-0.00001" iyy="0.00002" iyz="-0.00000" izz="0.00001"/>
      <origin rpy="0.00000 0.00000 0.00000" xyz="-0.00000 0.02212 -0.00107"/>
      <mass value="0.10000"/>
    </inertial>
    <visual name="inks_1_PCBWay Community.007">
      <origin rpy="0.00000 -0.00000 -0.00000" xyz="-0.00000 -0.00000 0.00000"/>
      <material name="Material.002"/>
      <geometry>
        <mesh filename="../meshes/dae/inks_1_PCBWay Community.007.dae" scale="1.00000 1.00000 1.00000"/>
      </geometry>
    </visual>
  </link>
  <link name="inks_1_PCBWay_Community.008_link">
    <collision name="inks_1_PCBWay Community.008_collision">
      <origin rpy="0.00000 -0.00000 0.00000" xyz="0.00000 -0.00000 -0.00000"/>
      <geometry>
        <mesh filename="../meshes/dae/inks_1_PCBWay Community.008.dae" scale="1.00000 1.00000 1.00000"/>
      </geometry>
    </collision>
    <inertial>
      <inertia ixx="0.00001" ixy="-0.00000" ixz="-0.00000" iyy="0.00001" iyz="-0.00000" izz="0.00000"/>
      <origin rpy="0.00000 0.00000 0.00000" xyz="-0.00000 -0.01050 -0.00095"/>
      <mass value="0.10000"/>
    </inertial>
    <visual name="inks_1_PCBWay Community.008">
      <origin rpy="-0.00000 0.00000 0.00000" xyz="-0.00000 -0.00000 0.00000"/>
      <material name="Material.002"/>
      <geometry>
        <mesh filename="../meshes/dae/inks_1_PCBWay Community.008.dae" scale="1.00000 1.00000 1.00000"/>
      </geometry>
    </visual>
  </link>
  <link name="inks_1_PCBWay_Community.009_link">
    <inertial>
      <inertia ixx="0.00001" ixy="-0.00000" ixz="0.00000" iyy="0.00001" iyz="0.00000" izz="0.00000"/>
      <origin rpy="0.00000 0.00000 0.00000" xyz="-0.00000 -0.01050 -0.00095"/>
      <mass value="0.10000"/>
    </inertial>
    <visual name="inks_1_PCBWay Community.009">
      <origin rpy="0.00000 -0.00000 0.00000" xyz="-0.00000 0.00000 -0.00000"/>
      <material name="Material.002"/>
      <geometry>
        <mesh filename="../meshes/dae/inks_1_PCBWay Community.009.dae" scale="1.00000 1.00000 1.00000"/>
      </geometry>
    </visual>
  </link>
  <link name="inks_1_PCBWay_Community.010_link">
    <collision name="inks_1_PCBWay Community.010_collision">
      <origin rpy="-0.00000 0.00000 -0.00000" xyz="0.00000 0.00000 -0.00000"/>
      <geometry>
        <mesh filename="../meshes/dae/inks_1_PCBWay Community.010.dae" scale="1.00000 1.00000 1.00000"/>
      </geometry>
    </collision>
    <inertial>
      <inertia ixx="0.00007" ixy="0.00000" ixz="0.00000" iyy="0.00000" iyz="-0.00000" izz="0.00007"/>
      <origin rpy="0.00000 0.00000 0.00000" xyz="-0.00000 0.04978 0.00177"/>
      <mass value="0.10000"/>
    </inertial>
    <visual name="inks_1_PCBWay Community.010">
      <origin rpy="-0.00000 -0.00000 0.00000" xyz="-0.00000 0.00000 0.00000"/>
      <material name="Material.002"/>
      <geometry>
        <mesh filename="../meshes/dae/inks_1_PCBWay Community.010.dae" scale="1.00000 1.00000 1.00000"/>
      </geometry>
    </visual>
  </link>
  <link name="inks_1_PCBWay_Community.011_link">
    <collision name="inks_1_PCBWay Community.011_collision">
      <origin rpy="3.14159 0.00000 0.91954" xyz="-0.00000 -0.00000 -0.00000"/>
      <geometry>
        <mesh filename="../meshes/dae/inks_1_PCBWay Community.011.dae" scale="1.00000 1.00000 1.00000"/>
      </geometry>
    </collision>
    <inertial>
      <inertia ixx="0.00007" ixy="-0.00000" ixz="-0.00000" iyy="0.00000" iyz="-0.00000" izz="0.00007"/>
      <origin rpy="0.00000 0.00000 0.00000" xyz="0.03959 -0.03017 -0.00177"/>
      <mass value="0.10000"/>
    </inertial>
    <visual name="inks_1_PCBWay Community.011">
      <origin rpy="3.14159 0.00000 0.91954" xyz="-0.00000 0.00000 -0.00000"/>
      <material name="Material.002"/>
      <geometry>
        <mesh filename="../meshes/dae/inks_1_PCBWay Community.011.dae" scale="1.00000 1.00000 1.00000"/>
      </geometry>
    </visual>
  </link>
  <link name="inks_1_PCBWay_Community.012_link">
    <collision name="inks_1_PCBWay Community.012_collision">
      <origin rpy="-0.00000 -0.00000 0.00000" xyz="0.00000 0.00000 0.00000"/>
      <geometry>
        <mesh filename="../meshes/dae/inks_1_PCBWay Community.012.dae" scale="1.00000 1.00000 1.00000"/>
      </geometry>
    </collision>
    <inertial>
      <inertia ixx="0.00001" ixy="0.00000" ixz="-0.00003" iyy="0.00007" iyz="0.00000" izz="0.00005"/>
      <origin rpy="0.00000 0.00000 0.00000" xyz="0.00015 0.05009 0.00301"/>
      <mass value="0.10000"/>
    </inertial>
    <visual name="inks_1_PCBWay Community.012">
      <origin rpy="-0.00000 0.00000 0.00000" xyz="0.00000 -0.00000 0.00000"/>
      <material name="Material.002"/>
      <geometry>
        <mesh filename="../meshes/dae/inks_1_PCBWay Community.012.dae" scale="1.00000 1.00000 1.00000"/>
      </geometry>
    </visual>
  </link>
  <link name="inks_2_PCBWay_Community.001_link">
    <collision name="inks_2_PCBWay Community.001_collision">
      <origin rpy="0.00000 -0.00000 -0.00000" xyz="-0.00000 0.00000 0.00000"/>
      <geometry>
        <mesh filename="../meshes/dae/inks_2_PCBWay Community.010.dae" scale="1.00000 1.00000 1.00000"/>
      </geometry>
    </collision>
    <inertial>
      <inertia ixx="0.00000" ixy="0.00000" ixz="-0.00000" iyy="0.00007" iyz="0.00000" izz="0.00007"/>
      <origin rpy="0.00000 0.00000 0.00000" xyz="0.00000 0.04978 0.00177"/>
      <mass value="0.10000"/>
    </inertial>
    <visual name="inks_2_PCBWay Community.001">
      <origin rpy="-0.00000 0.00000 0.00000" xyz="0.00000 0.00000 0.00000"/>
      <material name="Material.002"/>
      <geometry>
        <mesh filename="../meshes/dae/inks_2_PCBWay Community.010.dae" scale="1.00000 1.00000 1.00000"/>
      </geometry>
    </visual>
  </link>
  <link name="inks_2_PCBWay_Community.002_link">
    <collision name="inks_2_PCBWay Community.002_collision">
      <origin rpy="-0.00000 0.00000 0.00000" xyz="-0.00000 -0.00000 0.00000"/>
      <geometry>
        <mesh filename="../meshes/dae/inks_2_PCBWay Community.011.dae" scale="1.00000 1.00000 1.00000"/>
      </geometry>
    </collision>
    <inertial>
      <inertia ixx="0.00001" ixy="-0.00000" ixz="-0.00001" iyy="0.00002" iyz="-0.00000" izz="0.00002"/>
      <origin rpy="0.00000 0.00000 0.00000" xyz="0.00000 0.01707 0.00596"/>
      <mass value="0.10000"/>
    </inertial>
    <visual name="inks_2_PCBWay Community.002">
      <origin rpy="0.00000 0.00000 0.00000" xyz="0.00000 -0.00000 0.00000"/>
      <material name="Material.002"/>
      <geometry>
        <mesh filename="../meshes/dae/inks_2_PCBWay Community.011.dae" scale="1.00000 1.00000 1.00000"/>
      </geometry>
    </visual>
  </link>
  <link name="inks_2_PCBWay_Community.003_link">
    <inertial>
      <inertia ixx="0.00000" ixy="0.00000" ixz="-0.00000" iyy="0.00007" iyz="0.00000" izz="0.00007"/>
      <origin rpy="0.00000 0.00000 0.00000" xyz="0.00000 0.04978 0.00177"/>
      <mass value="0.10000"/>
    </inertial>
    <visual name="inks_2_PCBWay Community.003_collision">
      <origin rpy="0.00000 0.00000 -0.00000" xyz="-0.00000 -0.00000 0.00000"/>
      <material name="Material.002"/>
      <geometry>
        <mesh filename="../meshes/dae/inks_2_PCBWay Community.001.dae" scale="1.00000 1.00000 1.00000"/>
      </geometry>
    </visual>
  </link>
  <link name="inks_2_PCBWay_Community.004_link">
    <collision name="inks_2_PCBWay Community.004_collision">
      <origin rpy="3.14159 0.00000 -3.14159" xyz="-0.00000 0.00000 -0.00000"/>
      <geometry>
        <mesh filename="../meshes/dae/inks_2_PCBWay Community.012.dae" scale="1.00000 1.00000 1.00000"/>
      </geometry>
    </collision>
    <inertial>
      <inertia ixx="0.00002" ixy="-0.00000" ixz="-0.00000" iyy="0.00001" iyz="-0.00000" izz="0.00000"/>
      <origin rpy="0.00000 0.00000 0.00000" xyz="-0.00000 -0.00567 0.00292"/>
      <mass value="0.10000"/>
    </inertial>
    <visual name="inks_2_PCBWay Community.004">
      <origin rpy="3.14159 -0.00000 -3.14159" xyz="0.00000 0.00000 0.00000"/>
      <material name="Material.002"/>
      <geometry>
        <mesh filename="../meshes/dae/inks_2_PCBWay Community.012.dae" scale="1.00000 1.00000 1.00000"/>
      </geometry>
    </visual>
  </link>
  <link name="inks_2_PCBWay_Community.005_link">
    <collision name="inks_2_PCBWay Community.005_collision">
      <origin rpy="3.14159 -0.00000 -0.99484" xyz="0.00000 -0.00000 -0.00000"/>
      <geometry>
        <mesh filename="../meshes/dae/inks_2_PCBWay Community.002.dae" scale="1.00000 1.00000 1.00000"/>
      </geometry>
    </collision>
    <inertial>
      <inertia ixx="0.00001" ixy="-0.00000" ixz="0.00001" iyy="0.00002" iyz="0.00000" izz="0.00002"/>
      <origin rpy="0.00000 0.00000 0.00000" xyz="-0.01432 -0.00930 -0.00596"/>
      <mass value="0.10000"/>
    </inertial>
    <visual name="inks_2_PCBWay Community.005">
      <origin rpy="-3.14159 -0.00000 -0.99484" xyz="0.00000 -0.00000 -0.00000"/>
      <material name="Material.002"/>
      <geometry>
        <mesh filename="../meshes/dae/inks_2_PCBWay Community.002.dae" scale="1.00000 1.00000 1.00000"/>
      </geometry>
    </visual>
  </link>
  <link name="inks_2_PCBWay_Community.006_link">
    <collision name="inks_2_PCBWay Community.006_collision">
      <origin rpy="-0.00000 0.00000 -0.00000" xyz="0.00000 0.00000 0.00000"/>
      <geometry>
        <mesh filename="../meshes/dae/inks_2_PCBWay Community.003.dae" scale="1.00000 1.00000 1.00000"/>
      </geometry>
    </collision>
    <inertial>
      <inertia ixx="0.00002" ixy="-0.00000" ixz="0.00000" iyy="0.00001" iyz="0.00000" izz="0.00000"/>
      <origin rpy="0.00000 0.00000 0.00000" xyz="0.00000 -0.00567 -0.00292"/>
      <mass value="0.10000"/>
    </inertial>
    <visual name="inks_2_PCBWay Community.006">
      <origin rpy="0.00000 -0.00000 -0.00000" xyz="-0.00000 -0.00000 0.00000"/>
      <material name="Material.002"/>
      <geometry>
        <mesh filename="../meshes/dae/inks_2_PCBWay Community.003.dae" scale="1.00000 1.00000 1.00000"/>
      </geometry>
    </visual>
  </link>
  <link name="inks_2_PCBWay_Community.007_link">
    <collision name="inks_2_PCBWay Community.007_collision">
      <origin rpy="3.14159 0.00000 0.00000" xyz="-0.00000 0.00000 -0.00000"/>
      <geometry>
        <mesh filename="../meshes/dae/inks_2_PCBWay Community.016.dae" scale="1.00000 1.00000 1.00000"/>
      </geometry>
    </collision>
    <inertial>
      <inertia ixx="0.00000" ixy="-0.00000" ixz="-0.00000" iyy="0.00007" iyz="-0.00000" izz="0.00007"/>
      <origin rpy="0.00000 0.00000 0.00000" xyz="0.00000 -0.04978 -0.00177"/>
      <mass value="0.10000"/>
    </inertial>
    <visual name="inks_2_PCBWay Community.007">
      <origin rpy="3.14159 0.00000 -0.00000" xyz="0.00000 0.00000 0.00000"/>
      <material name="Material.002"/>
      <geometry>
        <mesh filename="../meshes/dae/inks_2_PCBWay Community.016.dae" scale="1.00000 1.00000 1.00000"/>
      </geometry>
    </visual>
  </link>
  <link name="inks_2_PCBWay_Community.008_link">
    <collision name="inks_2_PCBWay Community.008_collision">
      <origin rpy="-3.14159 0.00000 0.99484" xyz="0.00000 -0.00000 -0.00000"/>
      <geometry>
        <mesh filename="../meshes/dae/inks_2_PCBWay Community.017.dae" scale="1.00000 1.00000 1.00000"/>
      </geometry>
    </collision>
    <inertial>
      <inertia ixx="0.00001" ixy="0.00000" ixz="0.00001" iyy="0.00002" iyz="-0.00000" izz="0.00002"/>
      <origin rpy="0.00000 0.00000 0.00000" xyz="0.01432 -0.00930 -0.00596"/>
      <mass value="0.10000"/>
    </inertial>
    <visual name="inks_2_PCBWay Community.008">
      <origin rpy="-3.14159 0.00000 0.99484" xyz="0.00000 -0.00000 -0.00000"/>
      <material name="Material.002"/>
      <geometry>
        <mesh filename="../meshes/dae/inks_2_PCBWay Community.017.dae" scale="1.00000 1.00000 1.00000"/>
      </geometry>
    </visual>
  </link>
  <link name="inks_2_PCBWay_Community.009_link">
    <collision name="inks_2_PCBWay Community.009_collision">
      <origin rpy="3.14159 0.00000 -3.14159" xyz="-0.00000 0.00000 0.00000"/>
      <geometry>
        <mesh filename="../meshes/dae/inks_2_PCBWay Community.018.dae" scale="1.00000 1.00000 1.00000"/>
      </geometry>
    </collision>
    <inertial>
      <inertia ixx="0.00002" ixy="-0.00000" ixz="-0.00000" iyy="0.00001" iyz="-0.00000" izz="0.00000"/>
      <origin rpy="0.00000 0.00000 0.00000" xyz="-0.00000 -0.00567 0.00292"/>
      <mass value="0.10000"/>
    </inertial>
    <visual name="inks_2_PCBWay Community.009">
      <origin rpy="3.14159 -0.00000 -3.14159" xyz="0.00000 -0.00000 0.00000"/>
      <material name="Material.002"/>
      <geometry>
        <mesh filename="../meshes/dae/inks_2_PCBWay Community.018.dae" scale="1.00000 1.00000 1.00000"/>
      </geometry>
    </visual>
  </link>
  <link name="inks_2_PCBWay_Community.010_link">
    <collision name="inks_2_PCBWay Community.010_collision">
      <origin rpy="-3.14159 -0.00000 0.00000" xyz="-0.00000 0.00000 -0.00000"/>
      <geometry>
        <mesh filename="../meshes/dae/inks_2_PCBWay Community.004.dae" scale="1.00000 1.00000 1.00000"/>
      </geometry>
    </collision>
    <inertial>
      <inertia ixx="0.00000" ixy="-0.00000" ixz="0.00000" iyy="0.00007" iyz="0.00000" izz="0.00007"/>
      <origin rpy="0.00000 0.00000 0.00000" xyz="0.00000 -0.04978 -0.00177"/>
      <mass value="0.10000"/>
    </inertial>
    <visual name="inks_2_PCBWay Community.010">
      <origin rpy="3.14159 0.00000 -0.00000" xyz="-0.00000 0.00000 -0.00000"/>
      <material name="Material.002"/>
      <geometry>
        <mesh filename="../meshes/dae/inks_2_PCBWay Community.004.dae" scale="1.00000 1.00000 1.00000"/>
      </geometry>
    </visual>
  </link>
  <link name="inks_2_PCBWay_Community.011_link">
    <collision name="inks_2_PCBWay Community.011_collision">
      <origin rpy="-3.14159 0.00000 0.99484" xyz="0.00000 -0.00000 0.00000"/>
      <geometry>
        <mesh filename="../meshes/dae/inks_2_PCBWay Community.005.dae" scale="1.00000 1.00000 1.00000"/>
      </geometry>
    </collision>
    <inertial>
      <inertia ixx="0.00001" ixy="0.00000" ixz="-0.00001" iyy="0.00002" iyz="0.00000" izz="0.00002"/>
      <origin rpy="0.00000 0.00000 0.00000" xyz="0.01432 -0.00930 -0.00596"/>
      <mass value="0.10000"/>
    </inertial>
    <visual name="inks_2_PCBWay Community.011">
      <origin rpy="-3.14159 0.00000 0.99484" xyz="0.00000 -0.00000 0.00000"/>
      <material name="Material.002"/>
      <geometry>
        <mesh filename="../meshes/dae/inks_2_PCBWay Community.005.dae" scale="1.00000 1.00000 1.00000"/>
      </geometry>
    </visual>
  </link>
  <link name="inks_2_PCBWay_Community.012_link">
    <collision name="inks_2_PCBWay Community.012_collision">
      <origin rpy="-0.00000 0.00000 -0.00000" xyz="0.00000 0.00000 0.00000"/>
      <geometry>
        <mesh filename="../meshes/dae/inks_2_PCBWay Community.006.dae" scale="1.00000 1.00000 1.00000"/>
      </geometry>
    </collision>
    <inertial>
      <inertia ixx="0.00002" ixy="-0.00000" ixz="0.00000" iyy="0.00001" iyz="0.00000" izz="0.00000"/>
      <origin rpy="0.00000 0.00000 0.00000" xyz="0.00000 -0.00567 -0.00292"/>
      <mass value="0.10000"/>
    </inertial>
    <visual name="inks_2_PCBWay Community.012">
      <origin rpy="0.00000 -0.00000 -0.00000" xyz="0.00000 0.00000 0.00000"/>
      <material name="Material.002"/>
      <geometry>
        <mesh filename="../meshes/dae/inks_2_PCBWay Community.006.dae" scale="1.00000 1.00000 1.00000"/>
      </geometry>
    </visual>
  </link>
  <link name="left_side_PCBWay_Community_link">
    <collision name="Izq_collision">
      <origin rpy="-1.57080 0.00000 0.00000" xyz="0.00000 0.01326 0.00000"/>
      <geometry>
        <mesh filename="../meshes/dae/Izq.001.dae" scale="1.00000 1.00000 1.00000"/>
      </geometry>
    </collision>
    <inertial>
      <inertia ixx="0.00006" ixy="0.00000" ixz="0.00000" iyy="0.00012" iyz="-0.00000" izz="0.00006"/>
      <origin rpy="0.00000 0.00000 0.00000" xyz="0.00014 0.01454 -0.00005"/>
      <mass value="0.10000"/>
    </inertial>
    <visual name="Izq">
      <origin rpy="-1.57080 0.00000 0.00000" xyz="0.00006 0.01326 -0.00000"/>
      <material name="Material.004"/>
      <geometry>
        <mesh filename="../meshes/dae/Izq.001.dae" scale="1.00000 1.00000 1.00000"/>
      </geometry>
    </visual>
  </link>
  <link name="leg_PCBWay_Community.001_link">
    <collision name="leg_PCBWay Community.001_collision">
      <origin rpy="0.00000 -0.00000 0.00000" xyz="0.00000 0.00000 -0.00000"/>
      <geometry>
        <mesh filename="../meshes/dae/leg_PCBWay Community.001.dae" scale="1.00000 1.00000 1.00000"/>
      </geometry>
    </collision>
    <inertial>
      <inertia ixx="0.00001" ixy="0.00000" ixz="0.00001" iyy="0.00006" iyz="-0.00000" izz="0.00006"/>
      <origin rpy="0.00000 0.00000 0.00000" xyz="-0.00498 0.00224 -0.01413"/>
      <mass value="0.10000"/>
    </inertial>
    <visual name="leg_PCBWay Community.001">
      <origin rpy="-0.00000 -0.00000 0.00000" xyz="0.00000 0.00000 0.00000"/>
      <material name="Material.004"/>
      <geometry>
        <mesh filename="../meshes/dae/leg_PCBWay Community.001.dae" scale="1.00000 1.00000 1.00000"/>
      </geometry>
    </visual>
  </link>
  <link name="leg_PCBWay_Community.002_link">
    <collision name="leg_PCBWay Community.002_collision">
      <origin rpy="0.00000 -0.00000 -0.00000" xyz="-0.00000 0.00000 -0.00000"/>
      <geometry>
        <mesh filename="../meshes/dae/leg_PCBWay Community.002.dae" scale="1.00000 1.00000 1.00000"/>
      </geometry>
    </collision>
    <inertial>
      <inertia ixx="0.00007" ixy="-0.00000" ixz="0.00000" iyy="0.00007" iyz="0.00000" izz="0.00000"/>
      <origin rpy="0.00000 0.00000 0.00000" xyz="0.00517 0.00207 -0.01413"/>
      <mass value="0.10000"/>
    </inertial>
    <visual name="leg_PCBWay Community.002">
      <origin rpy="0.00000 0.00000 -0.00000" xyz="-0.00000 0.00000 -0.00000"/>
      <material name="Material.004"/>
      <geometry>
        <mesh filename="../meshes/dae/leg_PCBWay Community.002.dae" scale="1.00000 1.00000 1.00000"/>
      </geometry>
    </visual>
  </link>
  <link name="leg_PCBWay_Community.003_link">
    <collision name="leg_PCBWay Community.003_collision">
      <origin rpy="-0.00000 0.00000 -0.00000" xyz="0.00000 -0.00000 0.00000"/>
      <geometry>
        <mesh filename="../meshes/dae/leg_PCBWay Community.008.dae" scale="1.00000 1.00000 1.00000"/>
      </geometry>
    </collision>
    <inertial>
      <inertia ixx="0.00006" ixy="-0.00000" ixz="0.00002" iyy="0.00006" iyz="0.00001" izz="0.00001"/>
      <origin rpy="0.00000 0.00000 0.00000" xyz="-0.00517 0.00207 -0.01413"/>
      <mass value="0.10000"/>
    </inertial>
    <visual name="leg_PCBWay Community.003">
      <origin rpy="-0.00000 0.00000 0.00000" xyz="0.00000 0.00000 -0.00000"/>
      <material name="Material.004"/>
      <geometry>
        <mesh filename="../meshes/dae/leg_PCBWay Community.008.dae" scale="1.00000 1.00000 1.00000"/>
      </geometry>
    </visual>
  </link>
  <link name="leg_PCBWay_Community.004_link">
    <collision name="leg_PCBWay Community.004_collision">
      <origin rpy="-0.00000 -0.00001 -0.00001" xyz="-0.00000 0.00000 0.00000"/>
      <geometry>
        <mesh filename="../meshes/dae/leg_PCBWay Community.003.dae" scale="1.00000 1.00000 1.00000"/>
      </geometry>
    </collision>
    <inertial>
      <inertia ixx="0.00001" ixy="0.00000" ixz="0.00001" iyy="0.00006" iyz="-0.00000" izz="0.00006"/>
      <origin rpy="0.00000 0.00000 0.00000" xyz="-0.00498 0.00224 -0.01413"/>
      <mass value="0.10000"/>
    </inertial>
    <visual name="leg_PCBWay Community.004">
      <origin rpy="-0.00000 0.00000 -0.00000" xyz="-0.00000 0.00000 0.00000"/>
      <material name="Material.004"/>
      <geometry>
        <mesh filename="../meshes/dae/leg_PCBWay Community.003.dae" scale="1.00000 1.00000 1.00000"/>
      </geometry>
    </visual>
  </link>
  <link name="leg_PCBWay_Community.005_link">
    <collision name="leg_PCBWay Community.005_collision">
      <origin rpy="-0.00000 0.00000 0.00000" xyz="-0.00000 -0.00000 -0.00000"/>
      <geometry>
        <mesh filename="../meshes/dae/leg_PCBWay Community.011.dae" scale="1.00000 1.00000 1.00000"/>
      </geometry>
    </collision>
    <inertial>
      <inertia ixx="0.00006" ixy="0.00000" ixz="-0.00002" iyy="0.00006" iyz="0.00001" izz="0.00001"/>
      <origin rpy="0.00000 0.00000 0.00000" xyz="0.00534 -0.00157 -0.01413"/>
      <mass value="0.10000"/>
    </inertial>
    <visual name="leg_PCBWay Community.005">
      <origin rpy="0.00000 0.00000 0.00000" xyz="0.00000 -0.00000 -0.00000"/>
      <material name="Material.004"/>
      <geometry>
        <mesh filename="../meshes/dae/leg_PCBWay Community.011.dae" scale="1.00000 1.00000 1.00000"/>
      </geometry>
    </visual>
  </link>
  <link name="leg_PCBWay_Community.006_link">
    <collision name="leg_PCBWay Community.006_collision">
      <origin rpy="-0.00000 -0.00000 -0.00000" xyz="-0.00000 0.00000 -0.00000"/>
      <geometry>
        <mesh filename="../meshes/dae/leg_PCBWay Community.004.dae" scale="1.00000 1.00000 1.00000"/>
      </geometry>
    </collision>
    <inertial>
      <inertia ixx="0.00007" ixy="-0.00000" ixz="0.00000" iyy="0.00007" iyz="0.00000" izz="0.00000"/>
      <origin rpy="0.00000 0.00000 0.00000" xyz="0.00517 0.00207 -0.01413"/>
      <mass value="0.10000"/>
    </inertial>
    <visual name="leg_PCBWay Community.006">
      <origin rpy="-0.00000 0.00000 0.00000" xyz="0.00000 -0.00000 0.00000"/>
      <material name="Material.004"/>
      <geometry>
        <mesh filename="../meshes/dae/leg_PCBWay Community.004.dae" scale="1.00000 1.00000 1.00000"/>
      </geometry>
    </visual>
  </link>
  <link name="leg_PCBWay_Community.007_link">
    <collision name="leg_PCBWay Community.007_collision">
      <origin rpy="-0.00000 -0.00000 0.00000" xyz="0.00000 0.00000 0.00000"/>
      <geometry>
        <mesh filename="../meshes/dae/leg_PCBWay Community.005.dae" scale="1.00000 1.00000 1.00000"/>
      </geometry>
    </collision>
    <inertial>
      <inertia ixx="0.00006" ixy="-0.00000" ixz="-0.00002" iyy="0.00006" iyz="-0.00001" izz="0.00001"/>
      <origin rpy="0.00000 0.00000 0.00000" xyz="-0.00517 0.00207 -0.01413"/>
      <mass value="0.10000"/>
    </inertial>
    <visual name="leg_PCBWay Community.007">
      <origin rpy="-0.00000 -0.00000 -0.00000" xyz="-0.00000 0.00000 0.00000"/>
      <material name="Material.004"/>
      <geometry>
        <mesh filename="../meshes/dae/leg_PCBWay Community.005.dae" scale="1.00000 1.00000 1.00000"/>
      </geometry>
    </visual>
  </link>
  <link name="leg_PCBWay_Community.008_link">
    <collision name="leg_PCBWay Community.008_collision">
      <origin rpy="-0.00000 -0.00000 -0.00000" xyz="0.00000 -0.00000 -0.00000"/>
      <geometry>
        <mesh filename="../meshes/dae/leg_PCBWay Community.006.dae" scale="1.00000 1.00000 1.00000"/>
      </geometry>
    </collision>
    <inertial>
      <inertia ixx="0.00006" ixy="0.00000" ixz="0.00002" iyy="0.00006" iyz="-0.00001" izz="0.00001"/>
      <origin rpy="0.00000 0.00000 0.00000" xyz="0.00534 -0.00157 -0.01413"/>
      <mass value="0.10000"/>
    </inertial>
    <visual name="leg_PCBWay Community.008">
      <origin rpy="0.00000 0.00000 0.00000" xyz="0.00000 -0.00000 -0.00000"/>
      <material name="Material.004"/>
      <geometry>
        <mesh filename="../meshes/dae/leg_PCBWay Community.006.dae" scale="1.00000 1.00000 1.00000"/>
      </geometry>
    </visual>
  </link>
  <link name="right_side_PCBWay_Community_link">
    <collision name="Der_collision">
      <origin rpy="-1.57080 0.00000 3.14159" xyz="-0.00032 -0.01343 0.00009"/>
      <geometry>
        <mesh filename="../meshes/dae/Der.dae" scale="1.00000 1.00000 1.00000"/>
      </geometry>
    </collision>
    <inertial>
      <inertia ixx="0.00006" ixy="-0.00000" ixz="0.00000" iyy="0.00012" iyz="0.00000" izz="0.00006"/>
      <origin rpy="0.00000 0.00000 0.00000" xyz="-0.00229 -0.01470 0.00004"/>
      <mass value="0.10000"/>
    </inertial>
    <visual name="Der">
      <origin rpy="-1.57080 -0.00000 -3.14159" xyz="-0.00032 -0.01343 0.00009"/>
      <material name="Material.004"/>
      <geometry>
        <mesh filename="../meshes/dae/Der.dae" scale="1.00000 1.00000 1.00000"/>
      </geometry>
    </visual>
  </link>
  <material name="Material.002">
    <color rgba="0.80000 0.00000 0.00000 1.00000"/>
  </material>
  <material name="Material.004">
    <color rgba="0.00000 0.00000 0.80000 1.00000"/>
  </material>
</robot>
